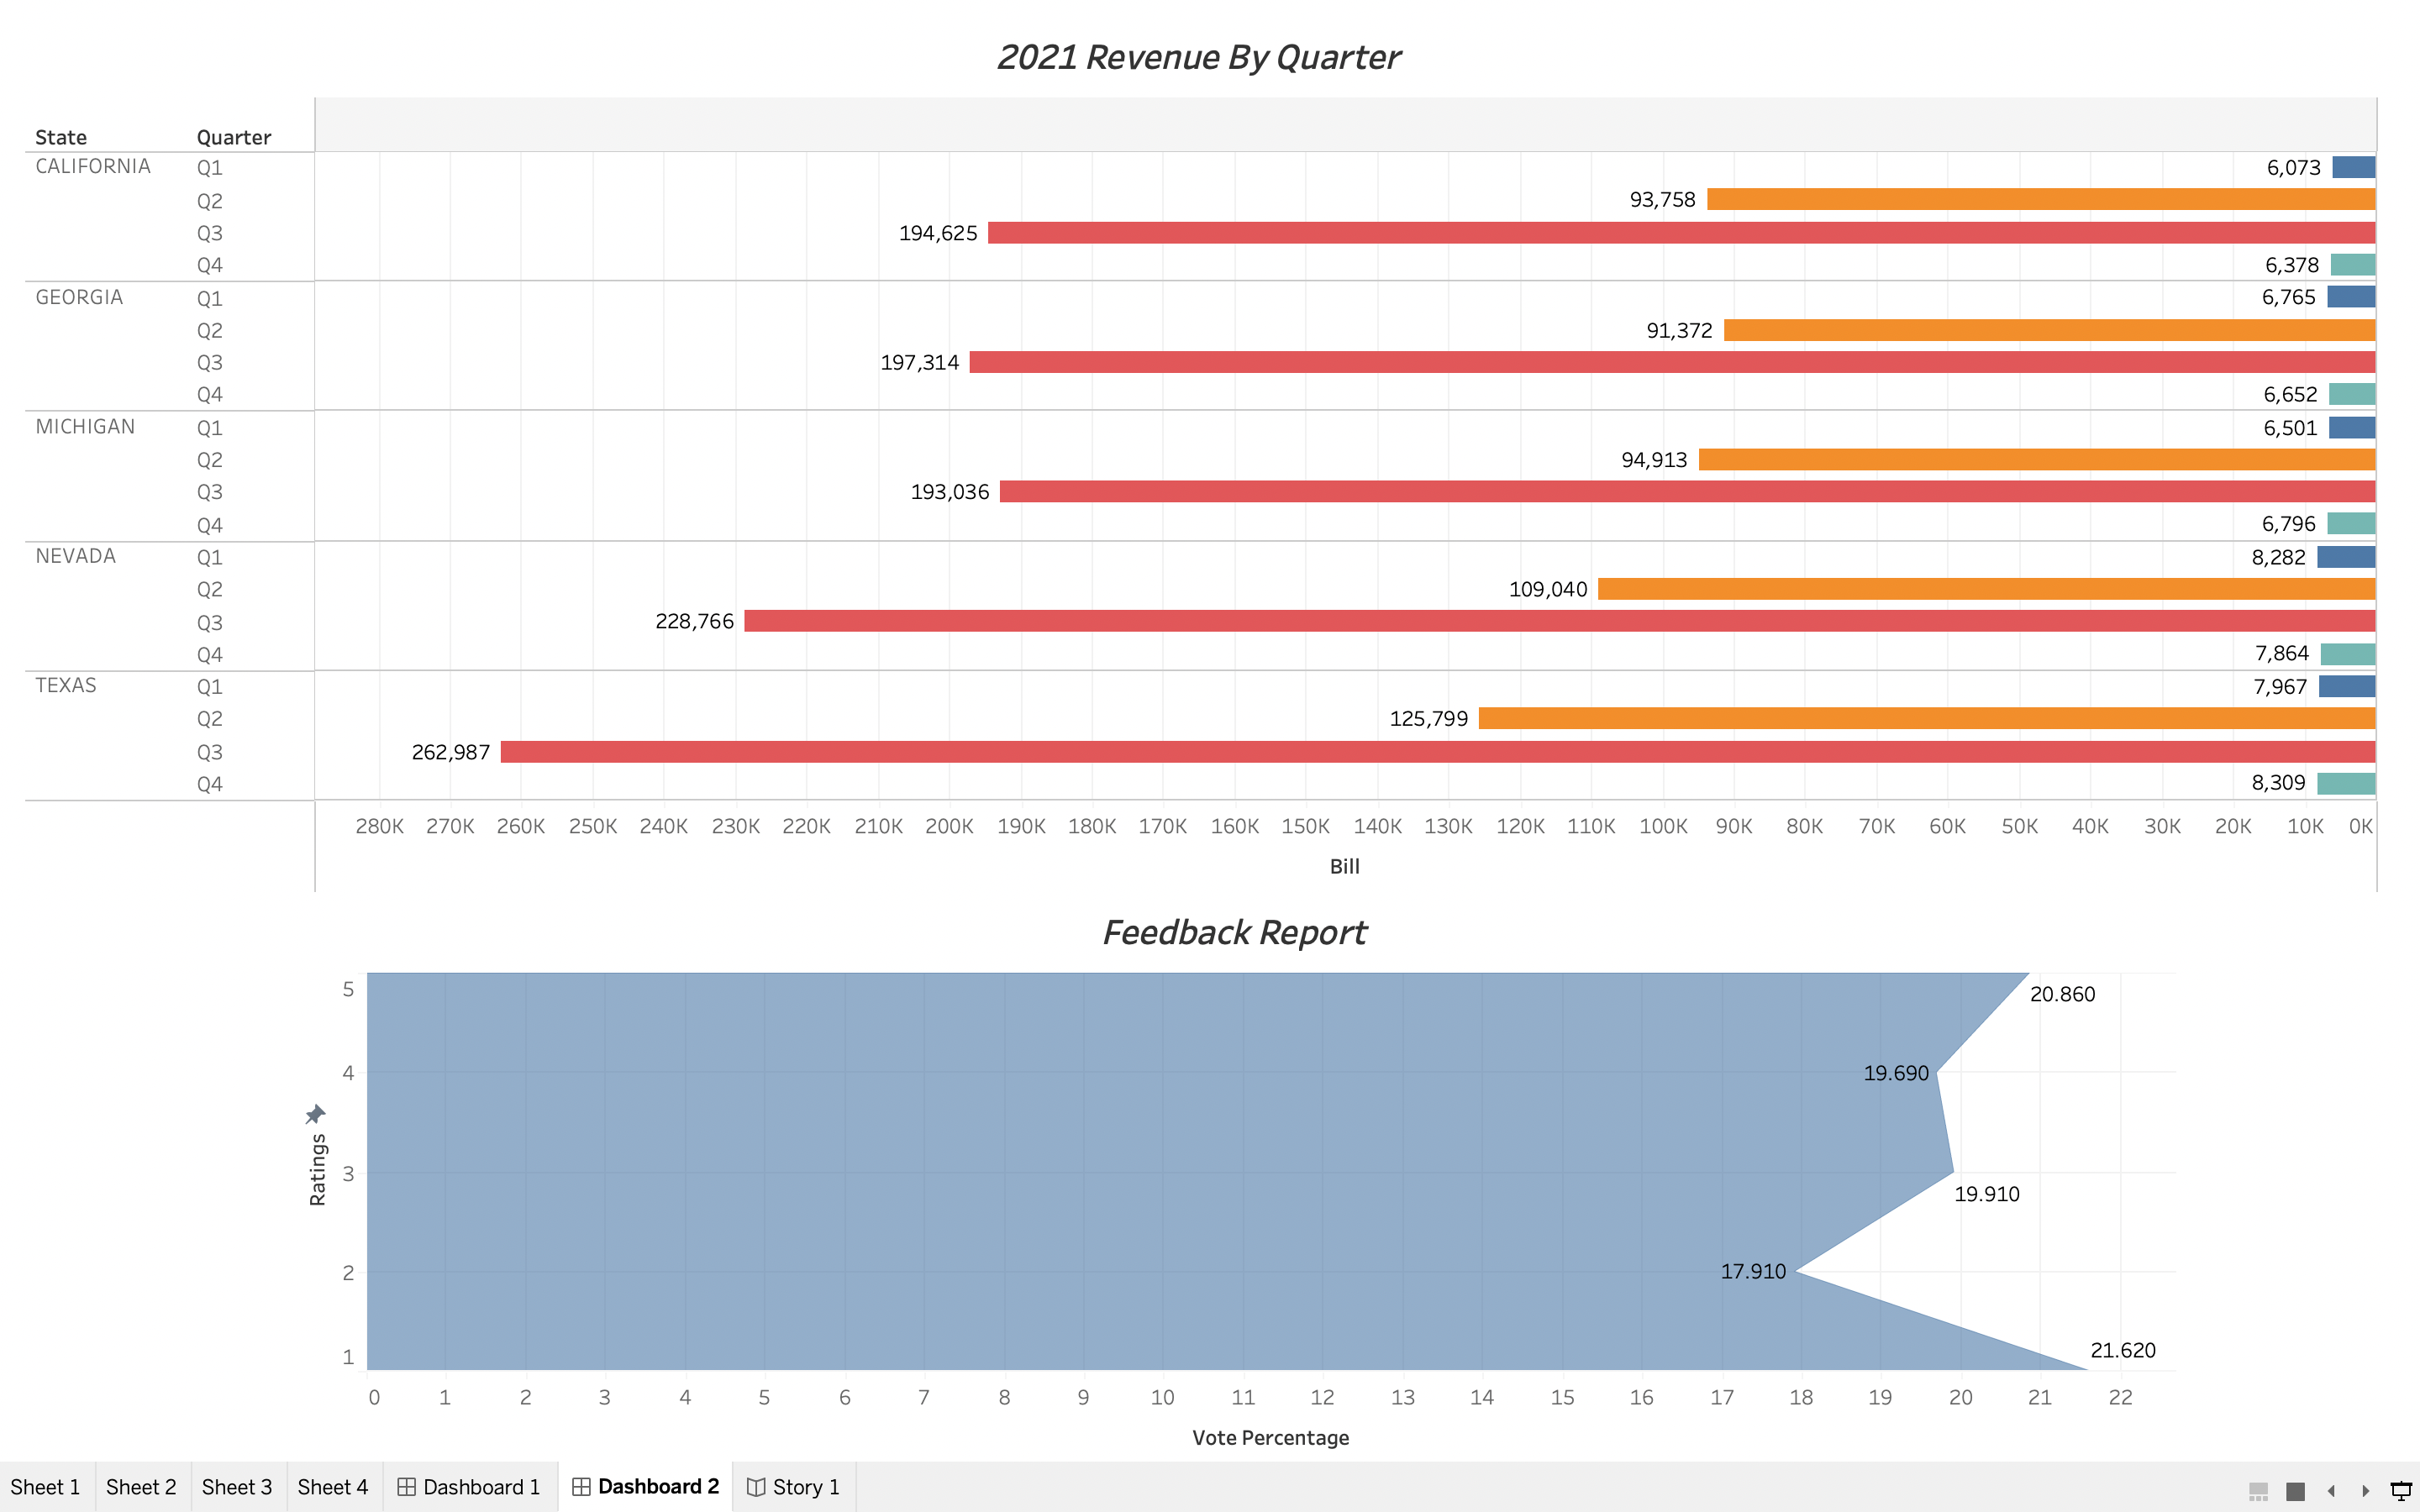

The page's visual inventory and layout, read from the dashboard file:
{"tool":"tableau","page":{"name":"Dashboard 2","canvas":[1000,1000],"units":"permille","ordinal":1},"visuals":[{"type":"worksheet","title":"Sheet 3","mark":"Automatic","rows":["STATE","QUARTER"],"cols":["BILL"],"box":[10.6,17.7,972.3,593.8]},{"type":"worksheet","title":"Sheet 4","mark":"Area","rows":["RATINGS"],"cols":["Calculation_265923536505729028"],"box":[120.4,616,779.5,385.5]}]}

Visuals, with their boxes on the dashboard's canvas, which has no fixed pixel size, in thousandths of its width and height (x1, y1, x2, y2). These are canvas units, not pixel positions in the 2420x1512 screenshot, which may show the page scaled, cropped or inside an application window:
"Sheet 3" worksheet: <region>11, 18, 983, 612</region>
"Sheet 4" worksheet (Area marks): <region>120, 616, 900, 1002</region>
